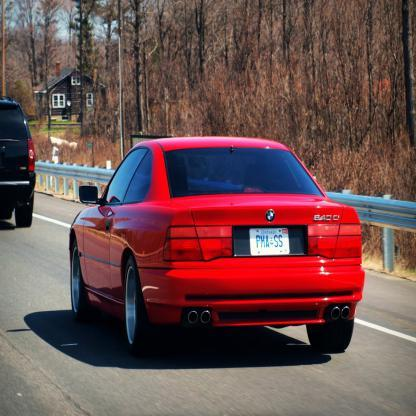car: (70, 133, 364, 360), (0, 96, 35, 225)
